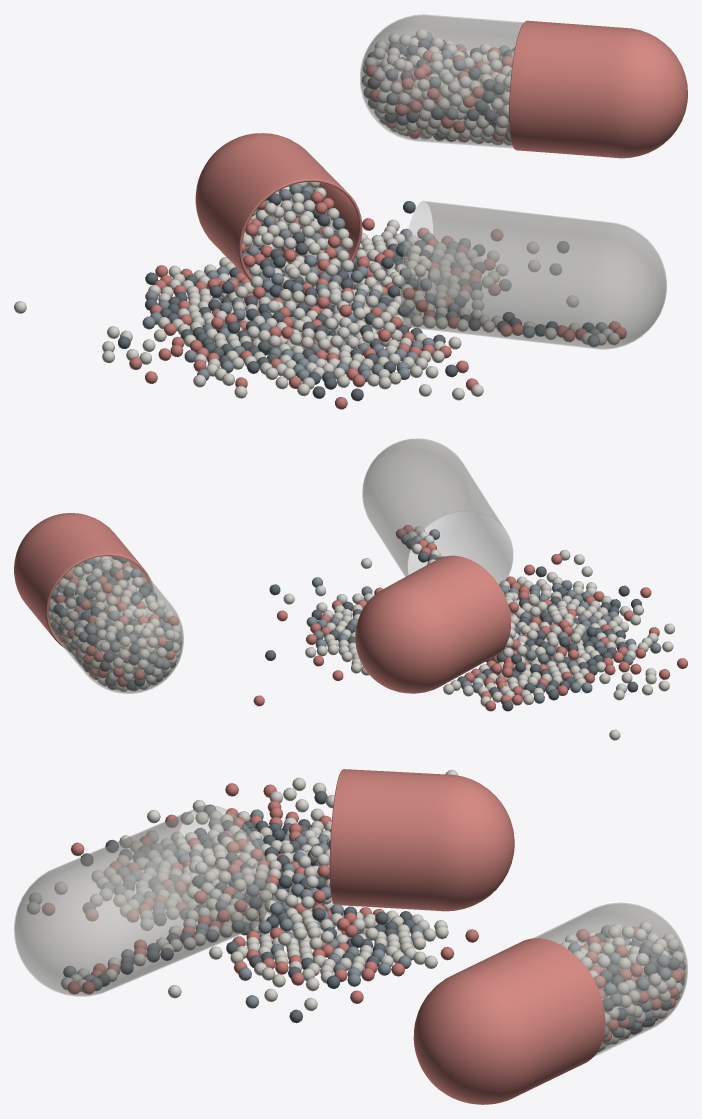
The model's file is pills.glb.
3 views of the same model, one above another, from view 1: azimuth 30°, elevation 25°; view 2: azimuth 150°, elevation 25°; view 3: azimuth 270°, elevation 25° (orthographic). The views are drawn at different scales.
Parts seen in each view (by area): view 1: PillsContent1, PillsBottom, PillsTop, PillsContent2; view 2: PillsBottom, PillsContent1, PillsTop, PillsContent2; view 3: PillsTop, PillsBottom, PillsContent1, PillsContent2.
Boxes of the visible parts, bbox=[...] form: PillsContent1: bbox=[14, 29, 626, 409]; PillsBottom: bbox=[360, 14, 666, 349]; PillsTop: bbox=[195, 20, 687, 286]; PillsContent2: bbox=[118, 33, 607, 401]; PillsBottom: bbox=[48, 438, 512, 693]; PillsContent1: bbox=[50, 525, 687, 740]; PillsTop: bbox=[14, 513, 510, 693]; PillsContent2: bbox=[48, 529, 641, 711]; PillsTop: bbox=[329, 769, 605, 1104]; PillsBottom: bbox=[14, 805, 687, 1056]; PillsContent1: bbox=[27, 769, 685, 1052]; PillsContent2: bbox=[63, 791, 684, 1051].
Bounding box in the file's own units: 0.1303 × 0.0216 × 0.1067.
